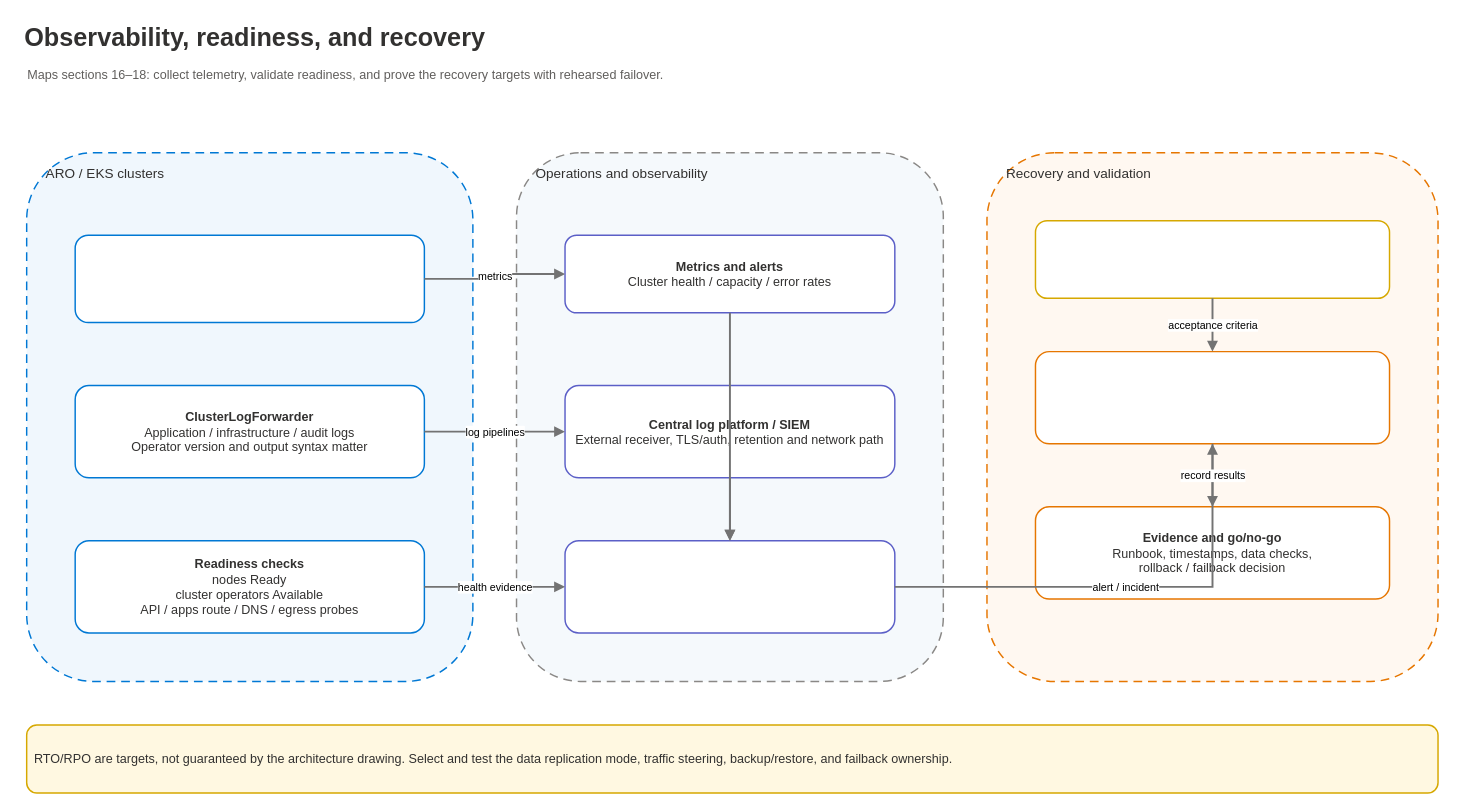
Image size: 1469x810. Some labels were removed from this diagram. Each missing label, with the centre of its shape:
"Failover exercise Traffic cutover + standby activation App and data validation" goes at point 1212,397.
"Operations dashboard SLO / RTO / RPO evidence On-call alert routing" goes at point 729,586.
"Recovery objectives RTO 2–4 hours RPO 15–30 minutes" goes at point 1212,259.
"User Workload Monitoring Prometheus metrics and alerts cluster-monitoring-config" goes at point 249,278.
